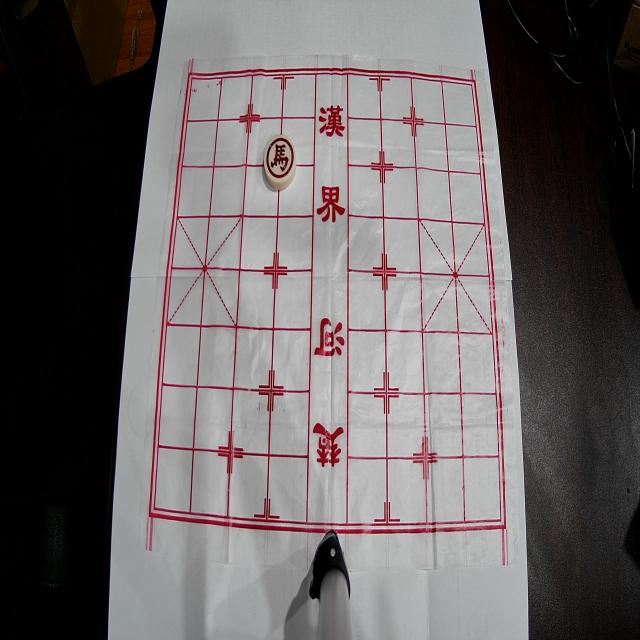red-horse: (264, 135, 296, 190)
